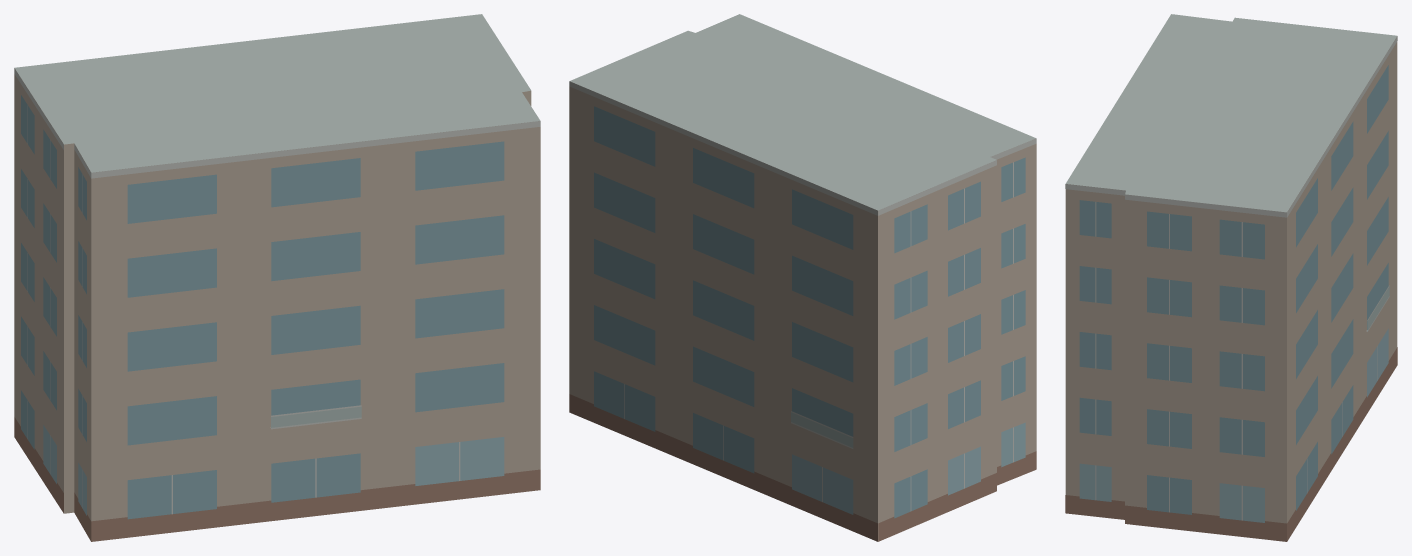
File: survey-upis-33022930.glb
3 views of the same model, side by side, from view 1: azimuth 30°, elevation 25°; view 2: azimuth 150°, elevation 25°; view 3: azimuth 270°, elevation 25° (orthographic). The views are drawn at different scales.
Parts seen in each view (by area): view 1: survey-upis-33022930.tmp; view 2: survey-upis-33022930.tmp; view 3: survey-upis-33022930.tmp.
Part boxes in pixels (x1,y1,x2,y2): survey-upis-33022930.tmp: (14, 14, 540, 541); survey-upis-33022930.tmp: (569, 14, 1036, 541); survey-upis-33022930.tmp: (1065, 14, 1397, 541).
Size of the model in its own units: 19.71 by 15.25 by 13.94.
